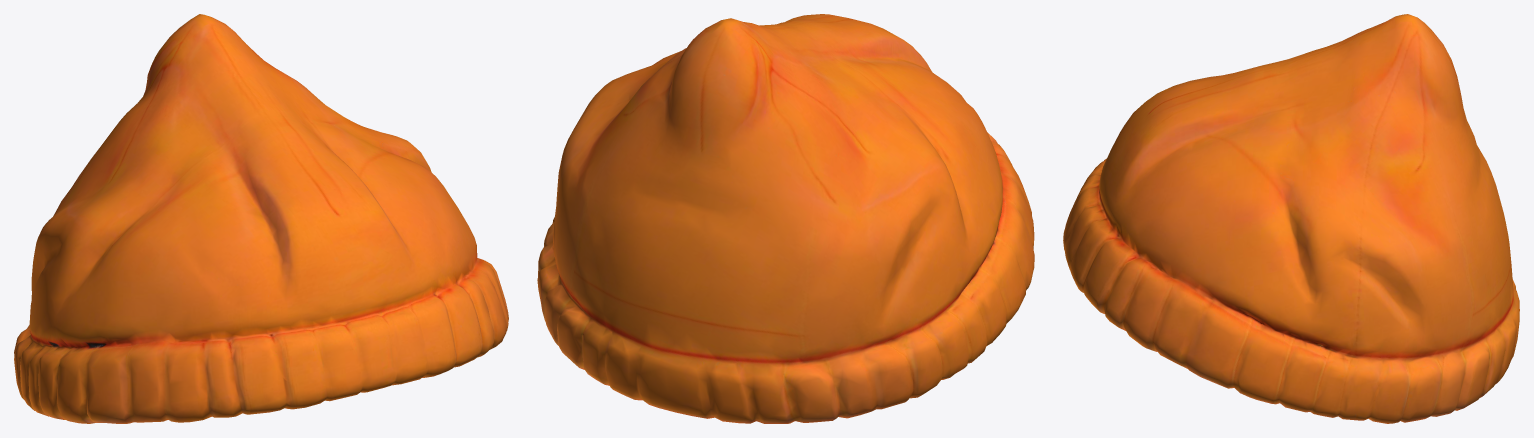
The model's file is Beanie-Orange.glb.
3 views of the same model, side by side, from view 1: azimuth 30°, elevation 25°; view 2: azimuth 150°, elevation 25°; view 3: azimuth 270°, elevation 25° (orthographic). The views are drawn at different scales.
Visible parts, largest first — view 1: Beanie-Orange; view 2: Beanie-Orange; view 3: Beanie-Orange.
Part boxes in pixels (bbox=[...]): Beanie-Orange: bbox=[14, 14, 508, 423]; Beanie-Orange: bbox=[537, 14, 1034, 423]; Beanie-Orange: bbox=[1063, 14, 1519, 423].
Bounding box in the file's own units: 0.3848 × 0.3046 × 0.3688.
1 material, 1 textured.
